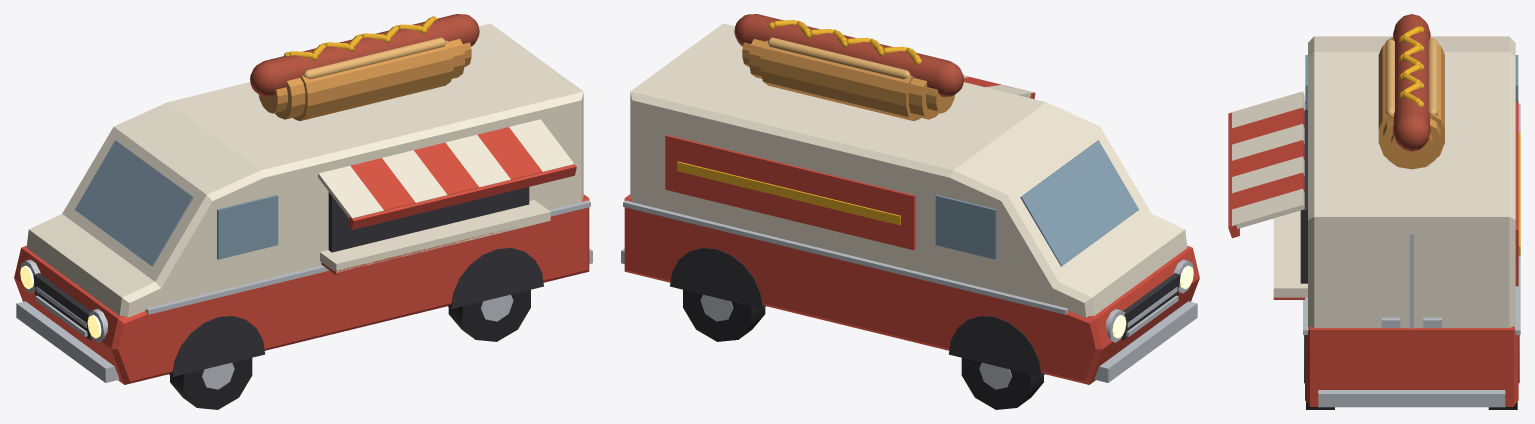
The model's file is hotdogtruck.glb.
3 renders of one model, left to right at view 1: azimuth 30°, elevation 25°; view 2: azimuth 150°, elevation 25°; view 3: azimuth 270°, elevation 25°, orthographic. The views are drawn at different scales.
Parts seen in each view (by area): view 1: van_body, lower_band, awning, windshield, bun_body, service_counter, sausage, service_opening, wheel_fl_fender, wheel_rl_fender, window_left, awning_valance (+11 smaller); view 2: van_body, lower_band, sign_panel, windshield, bun_body, sausage, wheel_fr_fender, wheel_rr_fender, trim_line, window_right, sign_stripe, front_bumper (+8 smaller); view 3: van_body, lower_band, awning, sausage, rear_bumper, service_counter, bun_body, service_opening, bun_end_rear_1, bun_end_rear_2, bun_lip_right, bun_lip_left (+5 smaller).
Part boxes in pixels (left/top/right/bottom): van_body: left=26, top=23, right=583, bottom=317; lower_band: left=14, top=194, right=589, bottom=384; awning: left=318, top=119, right=574, bottom=218; windshield: left=75, top=140, right=193, bottom=266; bun_body: left=293, top=40, right=453, bottom=121; service_counter: left=320, top=200, right=550, bottom=272; sausage: left=250, top=14, right=479, bottom=96; service_opening: left=328, top=187, right=529, bottom=252; wheel_fl_fender: left=169, top=316, right=265, bottom=376; wheel_rl_fender: left=448, top=248, right=543, bottom=308; window_left: left=217, top=195, right=278, bottom=259; awning_valance: left=348, top=162, right=576, bottom=229; van_body: left=630, top=23, right=1187, bottom=317; lower_band: left=624, top=194, right=1199, bottom=384; sign_panel: left=665, top=135, right=915, bottom=250; windshield: left=1020, top=140, right=1138, bottom=266; bun_body: left=760, top=40, right=920, bottom=121; sausage: left=734, top=14, right=963, bottom=96; wheel_fr_fender: left=948, top=316, right=1044, bottom=376; wheel_rr_fender: left=670, top=248, right=765, bottom=308; trim_line: left=623, top=200, right=1068, bottom=314; window_right: left=935, top=195, right=996, bottom=259; sign_stripe: left=677, top=161, right=900, bottom=225; front_bumper: left=1094, top=301, right=1197, bottom=382; van_body: left=1308, top=36, right=1515, bottom=327; lower_band: left=1305, top=101, right=1518, bottom=406; awning: left=1232, top=91, right=1304, bottom=228; sausage: left=1393, top=14, right=1430, bottom=151; rear_bumper: left=1318, top=390, right=1505, bottom=407; service_counter: left=1273, top=210, right=1307, bottom=297; bun_body: left=1378, top=44, right=1444, bottom=157; service_opening: left=1300, top=109, right=1307, bottom=283; bun_end_rear_1: left=1383, top=118, right=1440, bottom=169; bun_end_rear_2: left=1391, top=133, right=1432, bottom=166; bun_lip_right: left=1428, top=39, right=1437, bottom=115; bun_lip_left: left=1385, top=39, right=1394, bottom=115.
Size of the model in its own units: 5.69 by 3.22 by 2.82.
